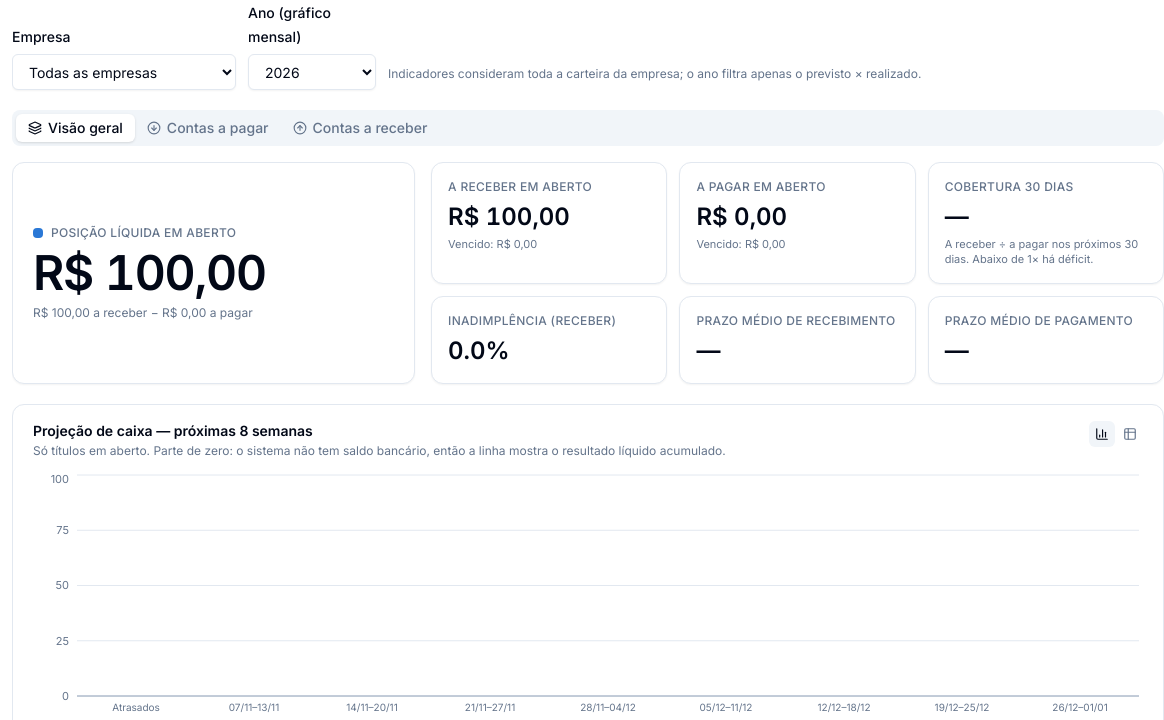
Análise Gerencial — barra de abas confinada (overflow mobile) › 03 troca de aba continua funcional com a barra confinada
What coordinates should you click on to do the following:
click the tab "Contas a receber"
I would click on:
 (360, 128)
Its box is x1=280 y1=114 x2=439 y2=142.
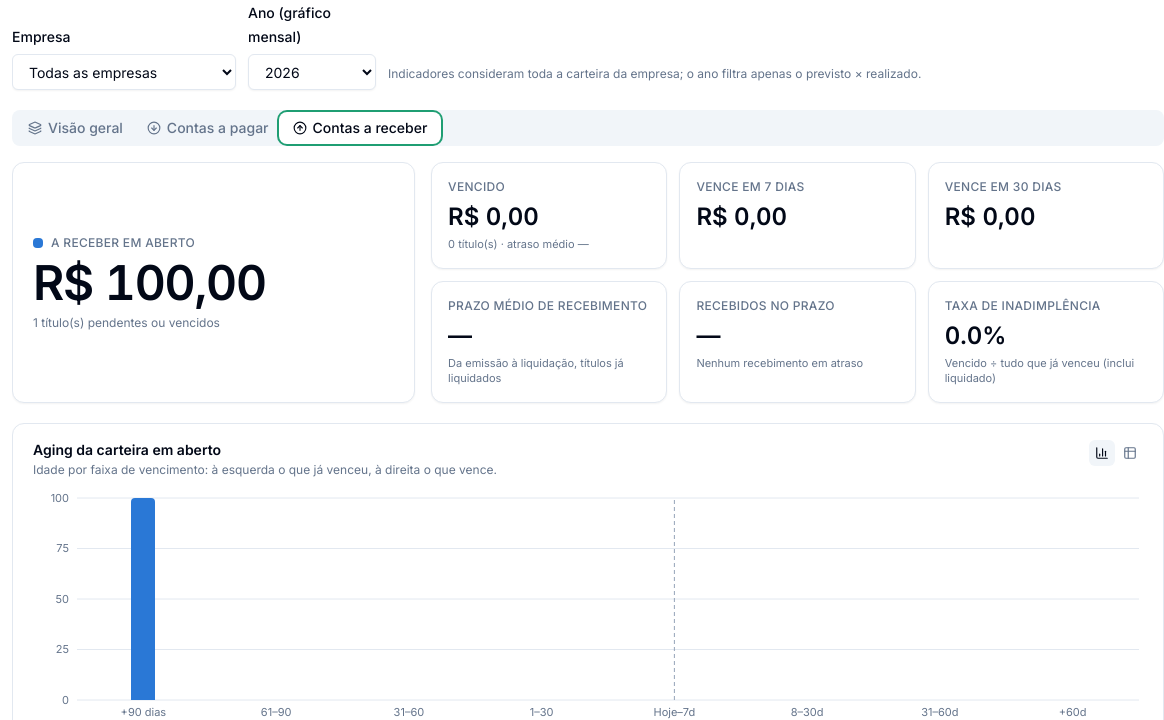
Check: the tab "Contas a receber" is selected, box x1=280 y1=114 x2=439 y2=142
